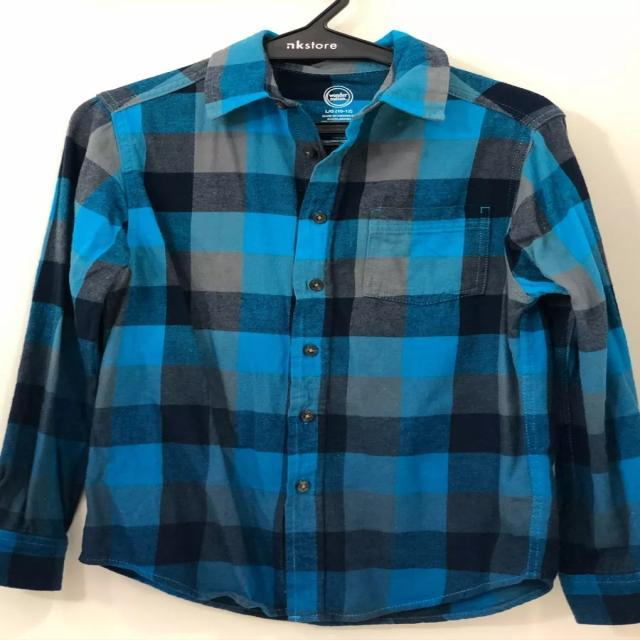long sleeve shirt: (3, 27, 640, 627)
